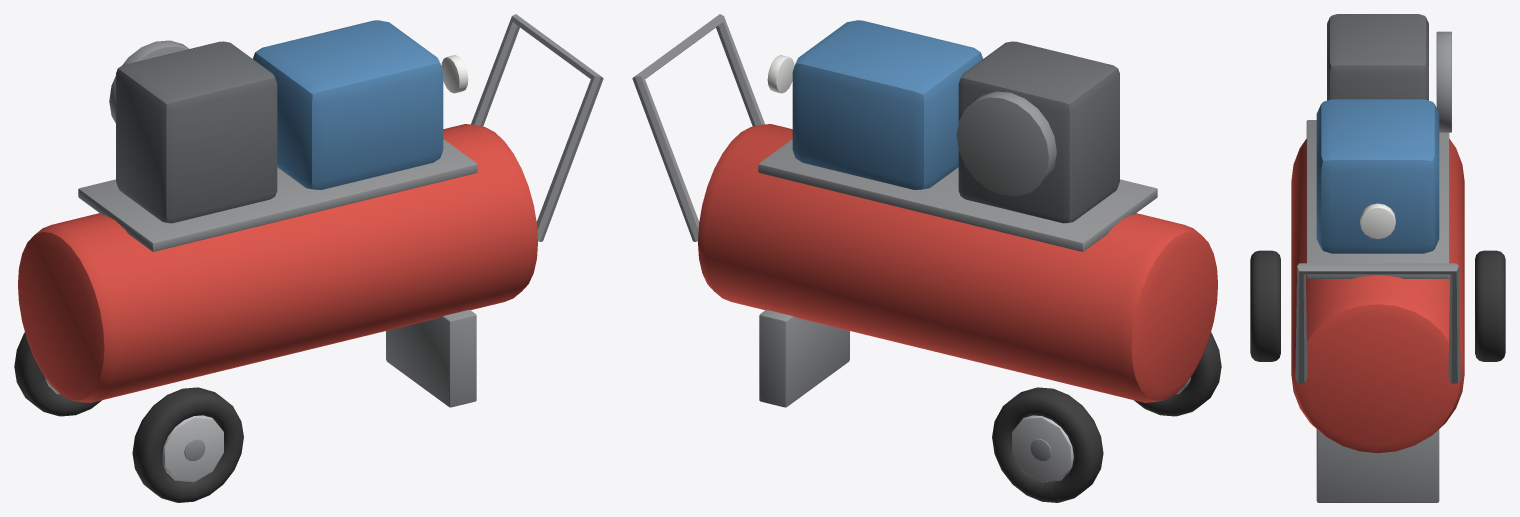
The model's file is EQP-PEQ-007.glb.
3 views of the same model, side by side, from view 1: azimuth 30°, elevation 25°; view 2: azimuth 150°, elevation 25°; view 3: azimuth 270°, elevation 25° (orthographic). The views are drawn at different scales.
Parts seen in each view (by area): view 1: EQP-PEQ-007_reservatorio, EQP-PEQ-007_cabecote, EQP-PEQ-007_motor, EQP-PEQ-007_base_motor, EQP-PEQ-007_roda-1_pneu, EQP-PEQ-007_pe, EQP-PEQ-007_alca, EQP-PEQ-007_roda-1_aro, EQP-PEQ-007_roda1_pneu, EQP-PEQ-007_polia, EQP-PEQ-007_manometro; view 2: EQP-PEQ-007_reservatorio, EQP-PEQ-007_motor, EQP-PEQ-007_cabecote, EQP-PEQ-007_base_motor, EQP-PEQ-007_polia, EQP-PEQ-007_roda1_pneu, EQP-PEQ-007_pe, EQP-PEQ-007_alca, EQP-PEQ-007_roda1_aro, EQP-PEQ-007_roda-1_pneu, EQP-PEQ-007_manometro; view 3: EQP-PEQ-007_reservatorio, EQP-PEQ-007_motor, EQP-PEQ-007_cabecote, EQP-PEQ-007_pe, EQP-PEQ-007_base_motor, EQP-PEQ-007_alca, EQP-PEQ-007_roda1_pneu, EQP-PEQ-007_roda-1_pneu, EQP-PEQ-007_polia, EQP-PEQ-007_manometro.
Boxes of the visible parts, x1,y1,x2,y2 form: EQP-PEQ-007_reservatorio: (18, 124, 537, 402); EQP-PEQ-007_cabecote: (116, 41, 277, 223); EQP-PEQ-007_motor: (253, 20, 443, 189); EQP-PEQ-007_base_motor: (78, 139, 477, 251); EQP-PEQ-007_roda-1_pneu: (132, 387, 243, 502); EQP-PEQ-007_pe: (386, 309, 476, 407); EQP-PEQ-007_alca: (471, 14, 603, 241); EQP-PEQ-007_roda-1_aro: (162, 415, 223, 482); EQP-PEQ-007_roda1_pneu: (14, 332, 101, 416); EQP-PEQ-007_polia: (109, 40, 189, 123); EQP-PEQ-007_manometro: (441, 55, 468, 93); EQP-PEQ-007_reservatorio: (698, 124, 1217, 402); EQP-PEQ-007_motor: (792, 20, 982, 189); EQP-PEQ-007_cabecote: (958, 41, 1119, 223); EQP-PEQ-007_base_motor: (758, 139, 1157, 251); EQP-PEQ-007_polia: (956, 91, 1056, 196); EQP-PEQ-007_roda1_pneu: (992, 387, 1103, 502); EQP-PEQ-007_pe: (759, 309, 849, 407); EQP-PEQ-007_alca: (632, 14, 764, 241); EQP-PEQ-007_roda1_aro: (1012, 415, 1073, 482); EQP-PEQ-007_roda-1_pneu: (1134, 332, 1221, 416); EQP-PEQ-007_manometro: (767, 55, 794, 93); EQP-PEQ-007_reservatorio: (1291, 139, 1464, 453); EQP-PEQ-007_motor: (1316, 99, 1439, 253); EQP-PEQ-007_cabecote: (1327, 14, 1428, 100); EQP-PEQ-007_pe: (1316, 429, 1439, 502); EQP-PEQ-007_base_motor: (1306, 120, 1449, 278); EQP-PEQ-007_alca: (1295, 263, 1460, 383); EQP-PEQ-007_roda1_pneu: (1475, 250, 1505, 361); EQP-PEQ-007_roda-1_pneu: (1250, 250, 1280, 361); EQP-PEQ-007_polia: (1436, 31, 1451, 132); EQP-PEQ-007_manometro: (1360, 203, 1395, 239).
Size of the model in its own units: 1.09 by 0.76 by 0.5.
